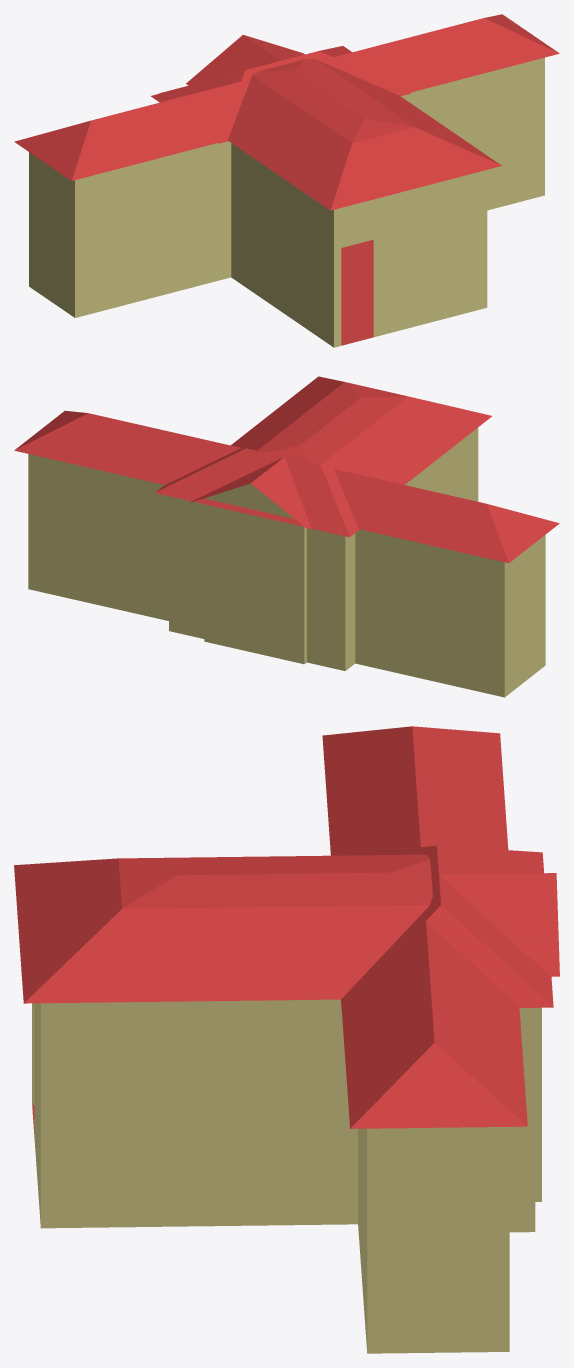
3 views of the same model, one above another, from view 1: azimuth 30°, elevation 25°; view 2: azimuth 150°, elevation 25°; view 3: azimuth 270°, elevation 25° (orthographic). The views are drawn at different scales.
Size of the model in its own units: 53.1 by 30.98 by 18.09.
